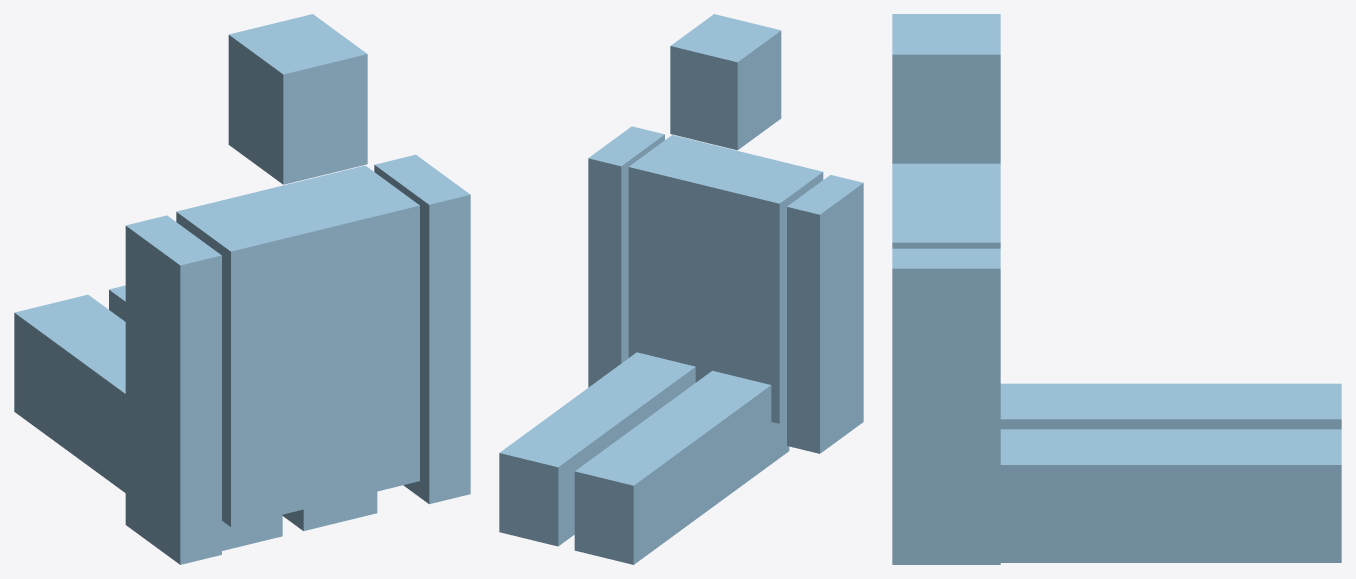
File: tristan-huber_sitting_person_for_scale.glb
The picture shows the model from 3 angles, left to right: view 1: azimuth 30°, elevation 25°; view 2: azimuth 150°, elevation 25°; view 3: azimuth 270°, elevation 25°; orthographic projection. The views are drawn at different scales.
Parts seen in each view (by area): view 1: part-5, part-3, part-2, part-4, part-0, part-1; view 2: part-5, part-0, part-3, part-1, part-2, part-4; view 3: part-1, part-4, part-2, part-0, part-5.
Part boxes in pixels (x1,y1,x2,y2): part-5: (176, 165, 419, 526); part-3: (125, 215, 221, 564); part-2: (228, 14, 367, 184); part-4: (374, 154, 470, 504); part-0: (14, 294, 282, 550); part-1: (109, 285, 377, 530); part-5: (628, 135, 823, 423); part-0: (574, 370, 789, 564); part-3: (787, 175, 863, 453); part-1: (499, 352, 695, 546); part-2: (670, 14, 781, 150); part-4: (588, 126, 664, 387); part-1: (1000, 429, 1341, 562); part-4: (892, 248, 1000, 564); part-2: (892, 14, 1000, 163); part-0: (1000, 383, 1341, 429); part-5: (892, 163, 1000, 248).
Bounding box in the file's own units: 700 × 1136 × 948.
